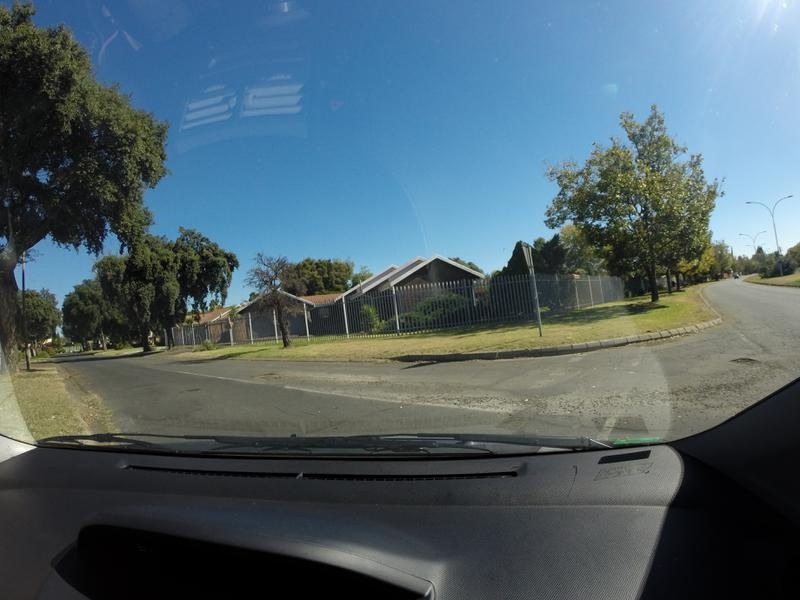pothole: (416, 389, 629, 410), (654, 388, 744, 407), (247, 366, 284, 382), (730, 357, 762, 369)
